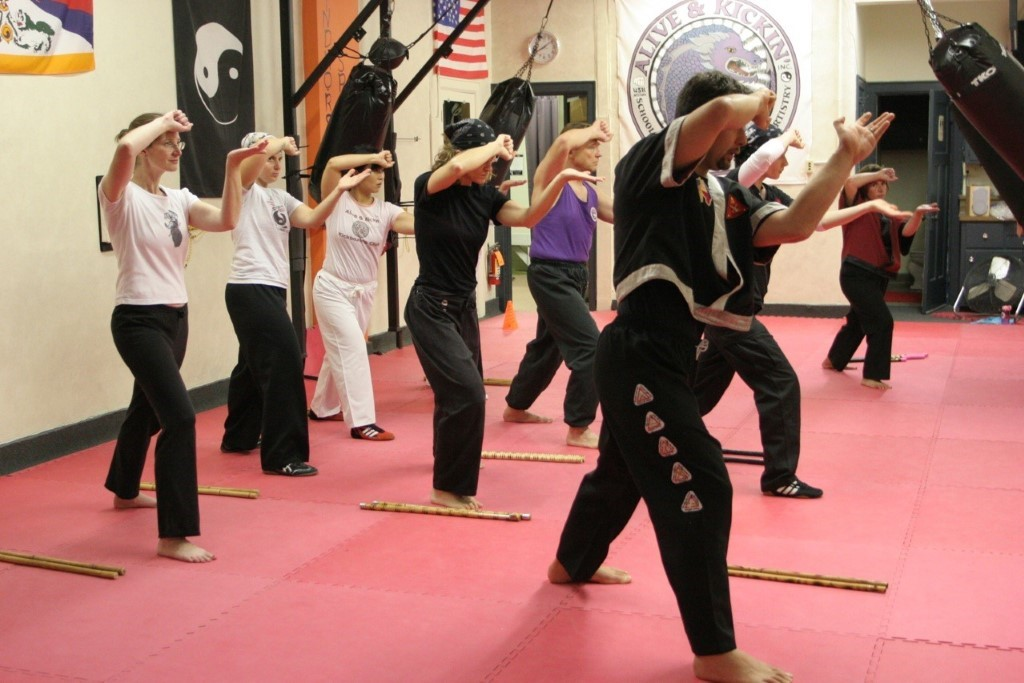baston_e: (728, 569, 883, 593), (728, 563, 884, 585), (365, 501, 516, 522), (1, 548, 121, 573), (1, 553, 114, 579), (482, 450, 579, 464), (848, 353, 925, 362), (198, 487, 253, 499), (722, 453, 764, 464), (200, 484, 255, 492), (720, 446, 763, 456)
baston_v: (522, 510, 535, 522), (574, 453, 587, 464), (109, 570, 120, 580), (117, 566, 127, 576), (358, 501, 369, 510), (251, 487, 263, 495), (249, 491, 259, 500), (923, 351, 933, 360), (879, 585, 889, 593), (369, 498, 378, 505), (882, 579, 891, 586)
